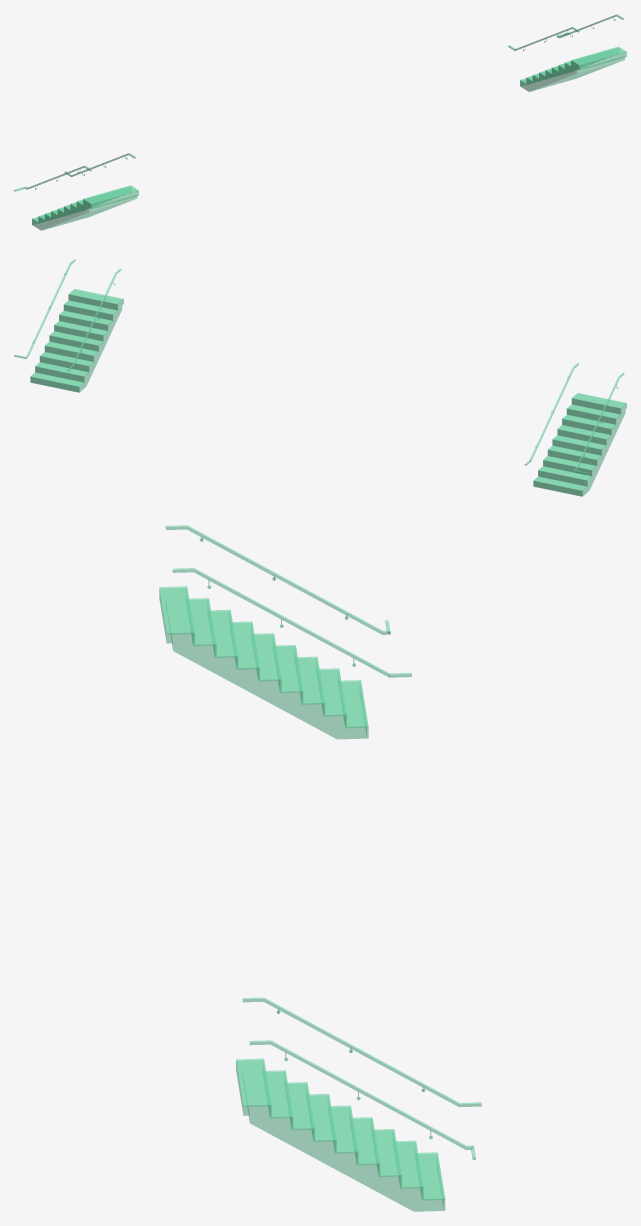
Rendered from zeHGW_circulation.glb.
The picture shows the model from 3 angles, top to bottom: view 1: azimuth 30°, elevation 25°; view 2: azimuth 150°, elevation 25°; view 3: azimuth 270°, elevation 25°; orthographic projection. The views are drawn at different scales.
Parts seen in each view (by area): view 1: world; view 2: world; view 3: world.
Boxes of the visible parts, bbox=[...] form: world: bbox=[14, 14, 626, 230]; world: bbox=[14, 259, 626, 496]; world: bbox=[159, 525, 481, 1211].
Size of the model in its own units: 15.76 by 2.37 by 4.
